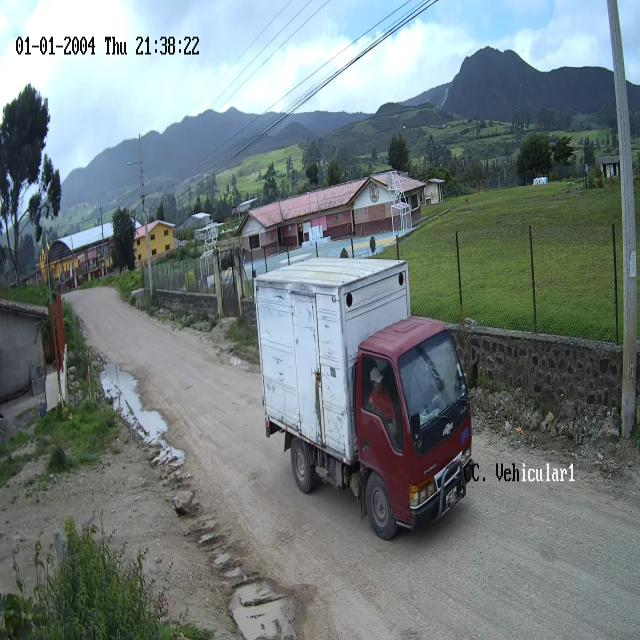TRUCK: (255, 256, 474, 540)
